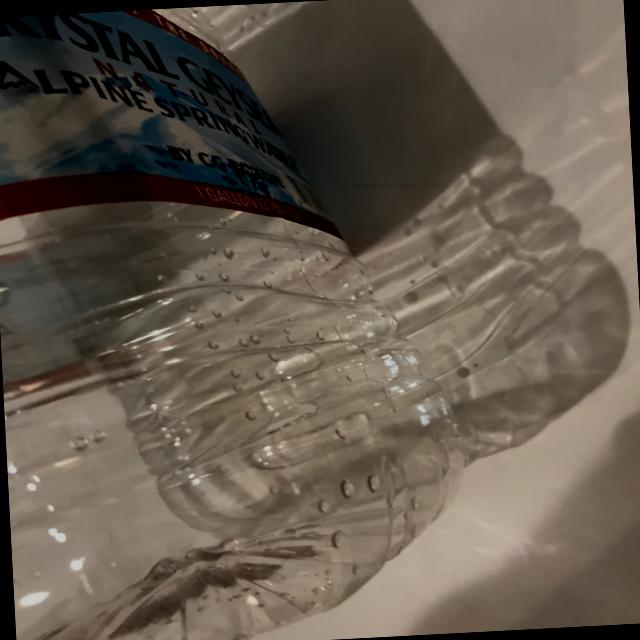Plastic: (0, 0, 478, 640)
